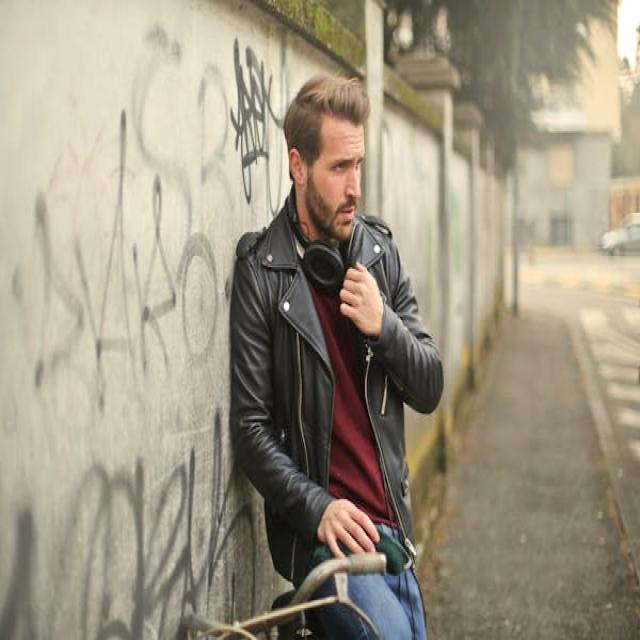Real human 2: (217, 62, 468, 640)
